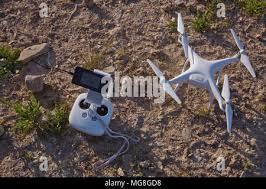drone: (145, 17, 263, 130)
